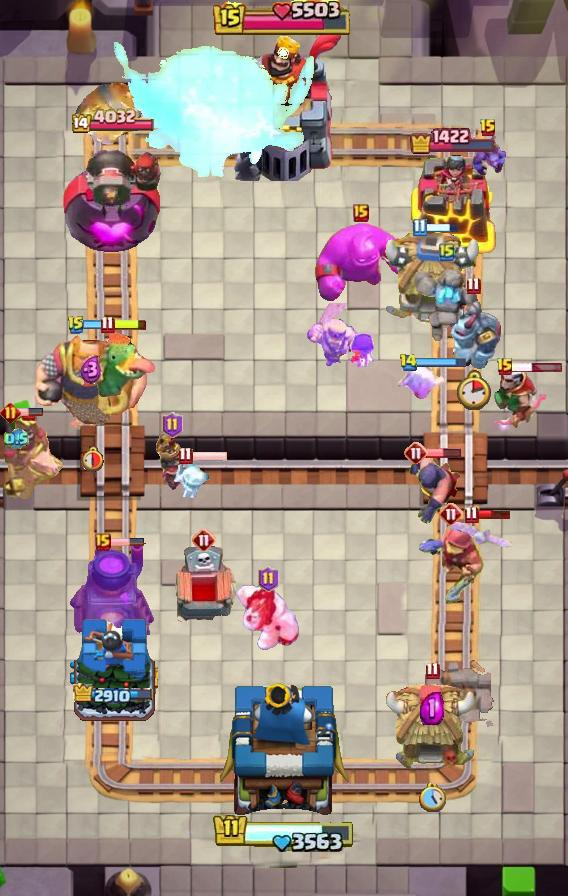arrows: (306, 303, 361, 369)
barbarian: (450, 518, 514, 550)
bat: (171, 456, 217, 500)
bomber-evolution: (154, 432, 190, 494)
clock: (212, 813, 356, 855), (213, 0, 355, 38)
clone: (307, 222, 415, 304)
dirt: (72, 72, 148, 152)
electro-spirit: (420, 692, 444, 725), (80, 355, 102, 385), (4, 428, 28, 450)
electro-wizard: (78, 328, 158, 400)
elixir: (456, 370, 492, 410), (418, 784, 445, 812), (80, 445, 105, 472)
elixir-golem-mid: (169, 545, 239, 631)
elixir-golem-small: (443, 300, 503, 370)
emote: (415, 357, 467, 368), (511, 362, 563, 373), (112, 317, 148, 330), (191, 450, 228, 462), (426, 447, 462, 459), (424, 222, 460, 233), (476, 509, 512, 520), (82, 318, 117, 329), (8, 407, 44, 417), (109, 537, 145, 547)
fireball: (417, 522, 485, 606)
freeze: (0, 413, 66, 499)
giant-skeleton: (33, 330, 149, 430)
goblin: (345, 331, 379, 371)
hunter: (68, 543, 158, 651)
king-tower: (219, 678, 349, 826), (223, 31, 345, 181)
mega-knight: (114, 29, 336, 203)
mirror: (398, 363, 448, 401)
monk: (406, 451, 462, 525)
prince: (380, 233, 482, 329), (385, 682, 479, 772)
queen-tower: (70, 616, 158, 731), (408, 154, 498, 256)
rage: (235, 584, 301, 652)
royal-delivery: (470, 136, 506, 178)
selected: (409, 127, 497, 155), (71, 108, 156, 136), (73, 683, 155, 707)
skeleton-king: (488, 364, 550, 432)
text: (404, 441, 428, 465), (439, 502, 463, 526), (192, 528, 216, 552), (257, 566, 279, 592), (162, 412, 183, 438), (0, 401, 20, 422), (479, 118, 497, 138), (67, 315, 85, 335), (398, 353, 418, 371), (496, 357, 514, 377), (439, 242, 455, 262), (353, 204, 369, 222), (95, 533, 111, 551), (413, 218, 428, 237), (424, 661, 439, 679), (467, 276, 481, 295), (179, 447, 193, 466), (465, 505, 479, 524), (101, 315, 115, 333)
tower-bar: (62, 138, 166, 256)
valkyrie-evolution: (410, 266, 484, 348)
